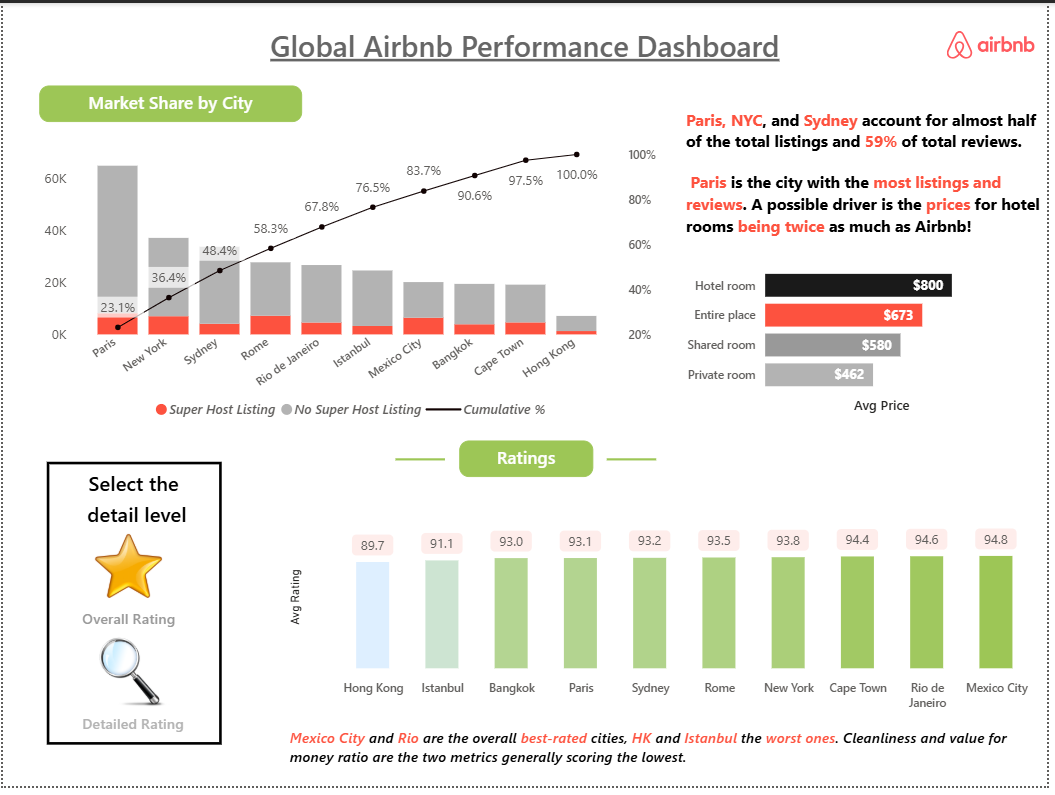

What the dashboard file says about the page in this screenshot:
{"tool":"powerbi","page":{"name":"Ratings","canvas":[960,720],"ordinal":1},"visuals":[{"type":"textbox","box":[225.6,16.1,508.9,59.7],"z":0},{"type":"image","box":[75.3,484.4,79.2,64.9],"z":0,"group":"g2"},{"type":"image","box":[85.7,581.8,70.1,64.9],"z":0,"group":"g1"},{"type":"image","box":[867.3,16.1,80.4,44.8],"z":1000},{"type":"textbox","box":[67.5,551.4,110.4,32.5],"z":1000,"group":"g2"},{"type":"textbox","box":[67.5,646.7,110.4,32.5],"z":1000,"group":"g1"},{"type":"textbox","box":[33.8,75.3,241.6,33.8],"z":2000},{"type":"textbox","box":[622.1,92.2,337.7,132.5],"z":3000},{"type":"lineStackedColumnComboChart","fields":{"Category":["Listings.city"],"Y":["Listings.Super Host Listing","Listings.No Super Host Listing"],"Y2":["Listings.Cumulative %"]},"box":[33.8,123.4,576.6,268.8],"z":4000},{"type":"barChart","fields":{"Category":["Listings.room_type"],"Y":["Listings.Avg Price"]},"box":[622.1,224.7,297.4,157.1],"z":5000},{"type":"textbox","box":[419.5,402.6,123.4,33.8],"z":6000},{"type":"shape","box":[361,398.7,45.5,41.6],"z":7000},{"type":"shape","box":[554.5,398.7,45.5,41.6],"z":8000},{"type":"textbox","box":[40.3,422.1,161,259.7],"z":9000},{"type":"columnChart","fields":{"Category":["Listings.city"],"Y":["Listings.Avg Rating"]},"box":[258.4,466.2,701.3,192.2],"z":10000},{"type":"pivotTable","fields":{"Rows":["Listings.city"],"Values":["Listings.Accuracy","Listings.Cleanliness","Listings.Communication","Listings.Location","Listings.Value"]},"box":[258.4,440.3,701.3,218.2],"z":11000},{"type":"group","id":"g1","title":"Group 2","box":[67.5,581.8,110.4,97.4],"z":12000},{"type":"group","id":"g2","title":"Group 1","box":[67.5,484.4,110.4,99.5],"z":13000},{"type":"textbox","box":[258.4,661,701.3,58.4],"z":14000}]}

Visuals, with their boxes in screenshot pixels (x1, y1, x2, y2), scaled from the page's 960x720 canvas onto the 1055x795 screenshot:
textbox: x1=248, y1=18, x2=807, y2=84
image: x1=83, y1=535, x2=170, y2=607
image: x1=94, y1=642, x2=171, y2=714
image: x1=953, y1=18, x2=1041, y2=67
textbox: x1=74, y1=609, x2=196, y2=645
textbox: x1=74, y1=714, x2=196, y2=750
textbox: x1=37, y1=83, x2=303, y2=120
textbox: x1=684, y1=102, x2=1054, y2=248
lineStackedColumnComboChart - Listings.city x Listings.Super Host Listing: x1=37, y1=136, x2=671, y2=433
barChart - Listings.room_type x Listings.Avg Price: x1=684, y1=248, x2=1010, y2=422
textbox: x1=461, y1=445, x2=597, y2=482
shape: x1=397, y1=440, x2=447, y2=486
shape: x1=609, y1=440, x2=659, y2=486
textbox: x1=44, y1=466, x2=221, y2=753
columnChart - Listings.city x Listings.Avg Rating: x1=284, y1=515, x2=1054, y2=727
pivotTable - Listings.city x Listings.Accuracy: x1=284, y1=486, x2=1054, y2=727
"Group 2" group: x1=74, y1=642, x2=196, y2=750
"Group 1" group: x1=74, y1=535, x2=196, y2=645
textbox: x1=284, y1=730, x2=1054, y2=794
